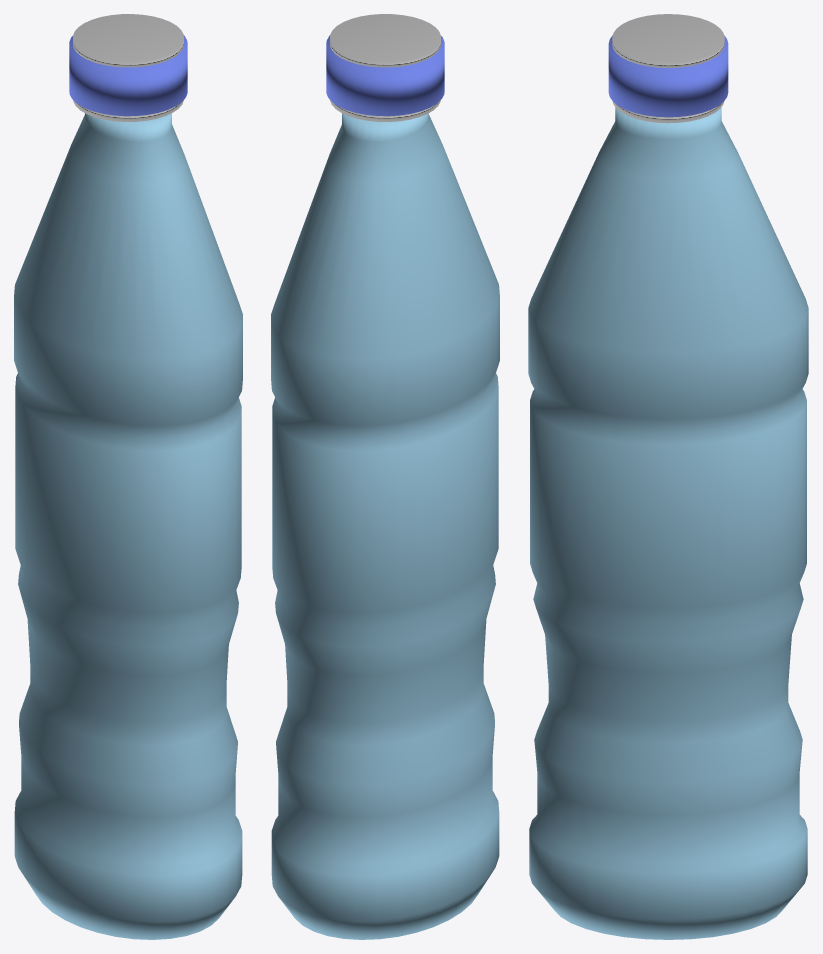
The model's file is Water Bottle.glb.
The picture shows the model from 3 angles, left to right: view 1: azimuth 30°, elevation 25°; view 2: azimuth 150°, elevation 25°; view 3: azimuth 270°, elevation 25°; orthographic projection.
Visible parts, largest first — view 1: Cylinder, Cylinder.002, Cylinder.003, Cylinder.001; view 2: Cylinder, Cylinder.002, Cylinder.003, Cylinder.001; view 3: Cylinder, Cylinder.002, Cylinder.003, Cylinder.001.
Boxes of the visible parts, bbox=[...] form: Cylinder: bbox=[14, 113, 242, 939]; Cylinder.002: bbox=[69, 35, 187, 116]; Cylinder.003: bbox=[73, 14, 183, 67]; Cylinder.001: bbox=[73, 100, 183, 121]; Cylinder: bbox=[271, 113, 499, 939]; Cylinder.002: bbox=[326, 35, 444, 116]; Cylinder.003: bbox=[330, 14, 440, 67]; Cylinder.001: bbox=[330, 100, 440, 121]; Cylinder: bbox=[528, 107, 808, 939]; Cylinder.002: bbox=[608, 35, 728, 117]; Cylinder.003: bbox=[612, 14, 724, 67]; Cylinder.001: bbox=[612, 101, 724, 123].
Size of the model in its own units: 0.8691 by 3.9 by 1.14.
